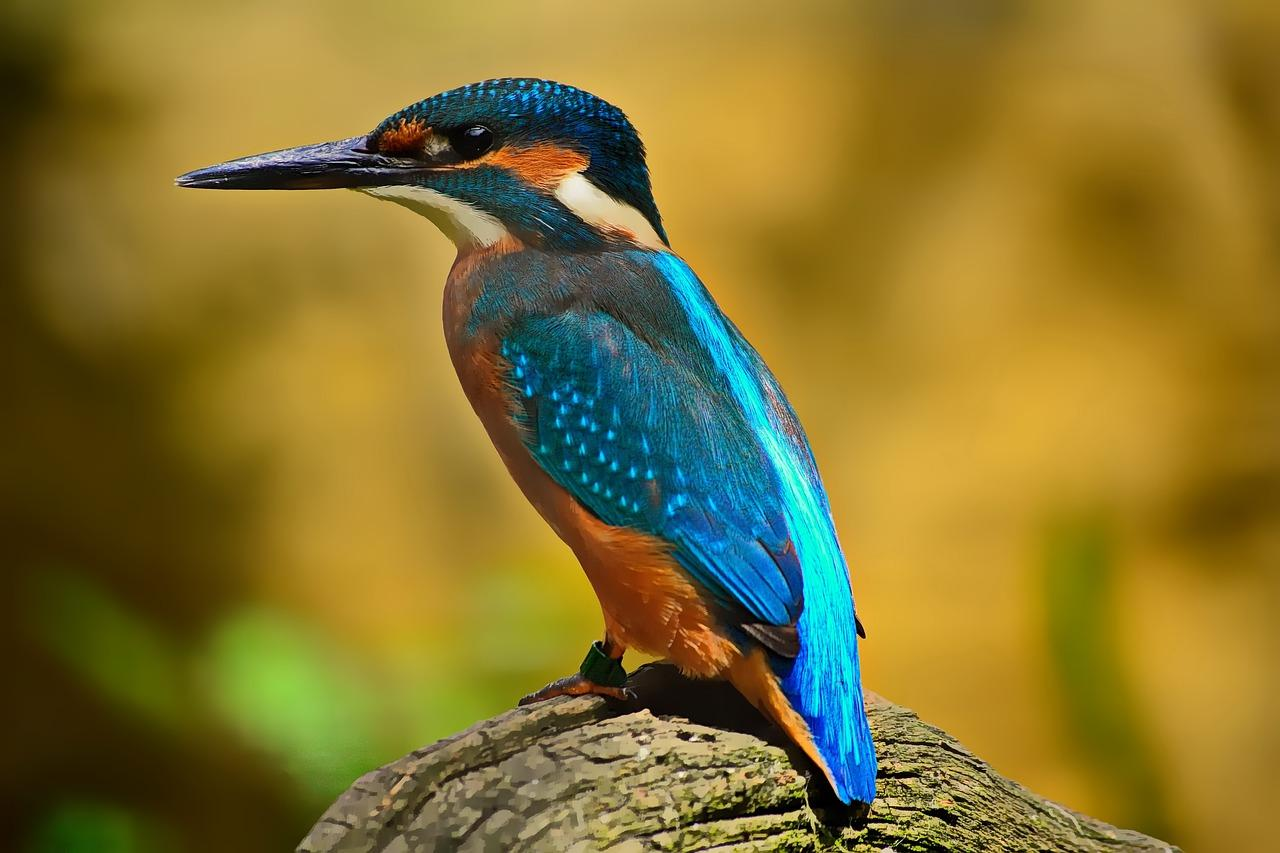bird: (177, 78, 875, 804), (532, 671, 616, 698)
